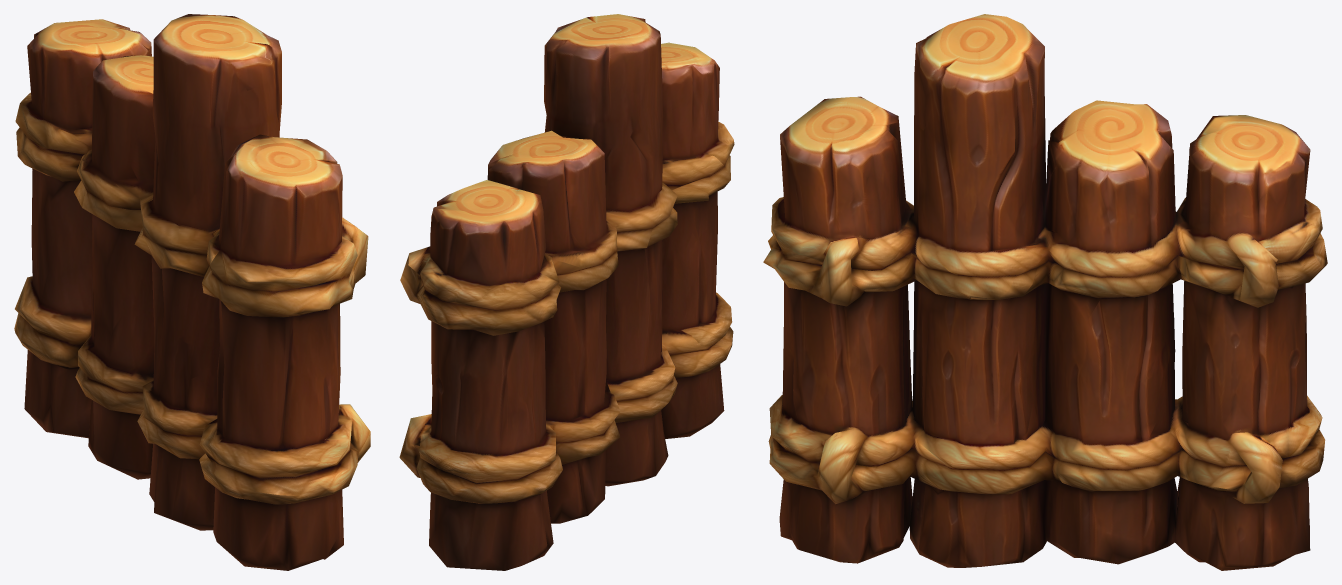
Rendered from Kit_W_CampFence_raw.glb.
3 views of the same model, side by side, from view 1: azimuth 30°, elevation 25°; view 2: azimuth 150°, elevation 25°; view 3: azimuth 270°, elevation 25° (orthographic). The views are drawn at different scales.
Parts seen in each view (by area): view 1: tripo_node_5b41f411-d347-48d3-9752-598a9a935bf7; view 2: tripo_node_5b41f411-d347-48d3-9752-598a9a935bf7; view 3: tripo_node_5b41f411-d347-48d3-9752-598a9a935bf7.
Boxes of the visible parts, box(x1,y1,x2,y2) form: tripo_node_5b41f411-d347-48d3-9752-598a9a935bf7: box(14, 14, 370, 570); tripo_node_5b41f411-d347-48d3-9752-598a9a935bf7: box(399, 14, 734, 570); tripo_node_5b41f411-d347-48d3-9752-598a9a935bf7: box(763, 14, 1327, 570).
Bounding box in the file's own units: 0.3377 × 0.9975 × 1.
Materials: 1 (1 with a texture image).
